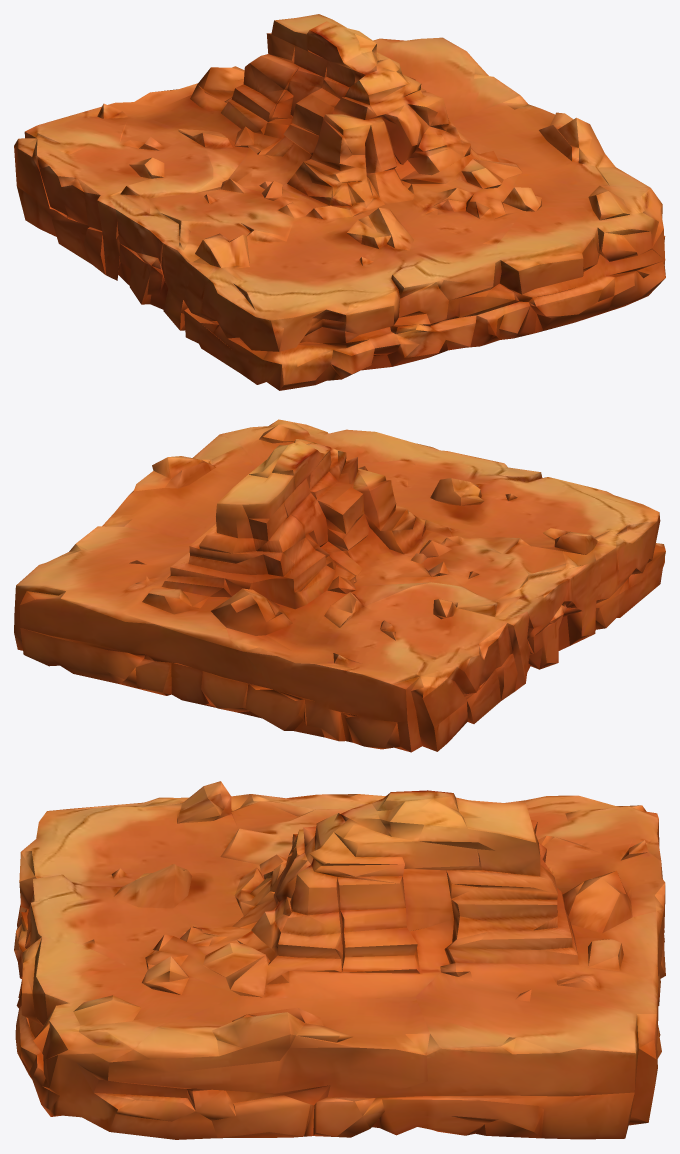
Rendered from marsMesaRock.glb.
The picture shows the model from 3 angles, top to bottom: view 1: azimuth 30°, elevation 25°; view 2: azimuth 150°, elevation 25°; view 3: azimuth 270°, elevation 25°; orthographic projection. The views are drawn at different scales.
Visible parts, largest first — view 1: model; view 2: model; view 3: model.
Part boxes in pixels (box(x1,y1,x2,y2)): model: box(14, 14, 665, 390); model: box(14, 419, 665, 752); model: box(14, 781, 665, 1139).
Size of the model in its own units: 1.8 by 0.7524 by 1.9.
1 material, 1 textured.
